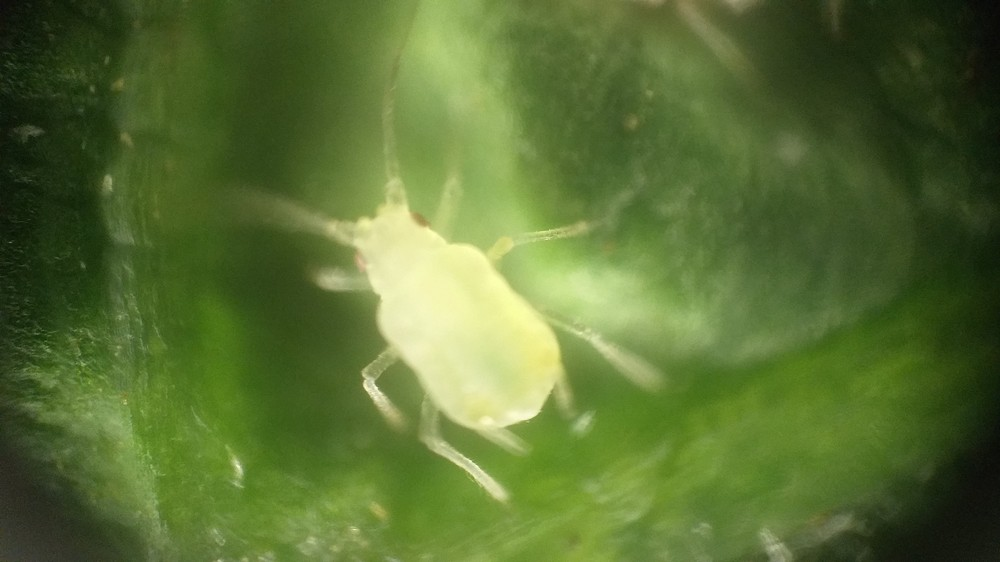Pulgon: (199, 74, 744, 522)
